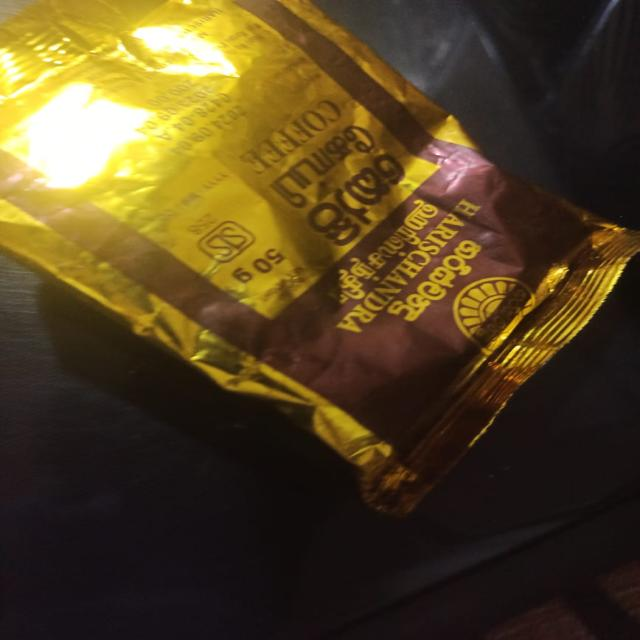Harischandra Coffee: (0, 0, 622, 509)
